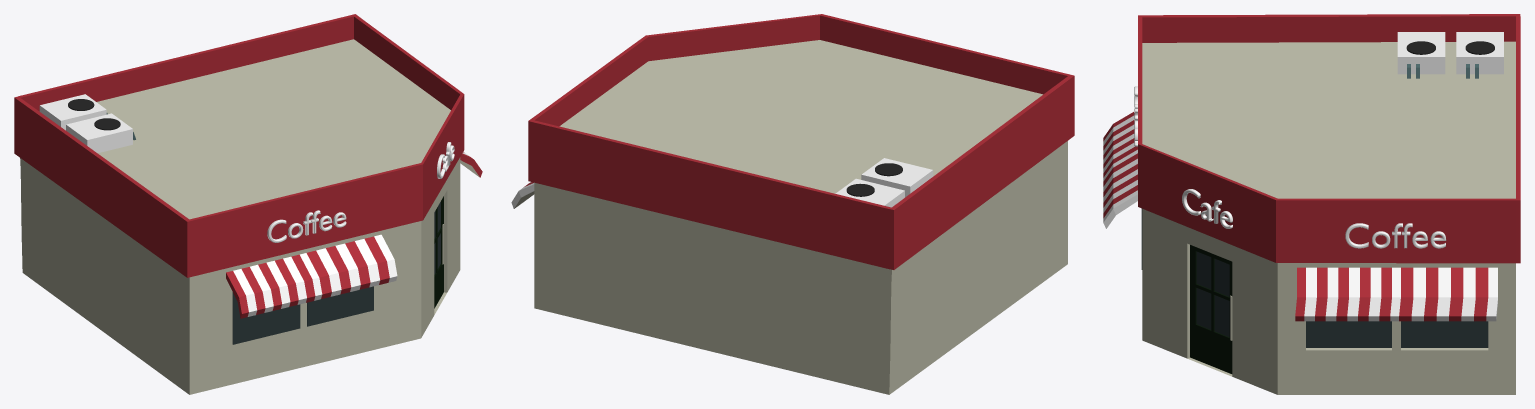
Rendered from cafe.fbx.
3 renders of one model, left to right at view 1: azimuth 30°, elevation 25°; view 2: azimuth 150°, elevation 25°; view 3: azimuth 270°, elevation 25°, orthographic. The views are drawn at different scales.
Parts seen in each view (by area): view 1: Plane.003, Cube.008, Cube.001, Text.004; view 2: Plane.003, Cube.008, Cube.001; view 3: Plane.003, Cube.008, Cube.001, Text.003, Text.005.
Boxes of the visible parts, x1,y1,x2,y2 form: Plane.003: (14,14,482,394); Cube.008: (66,113,135,153); Cube.001: (39,94,107,130); Text.004: (267,210,346,242); Plane.003: (511,14,1074,394); Cube.008: (861,158,933,197); Cube.001: (835,178,904,207); Plane.003: (1103,14,1520,394); Cube.008: (1397,32,1445,78); Cube.001: (1456,32,1503,78); Text.003: (1345,223,1446,248); Text.005: (1182,189,1232,228).
Bounding box in the file's own units: 423 × 193 × 371.
